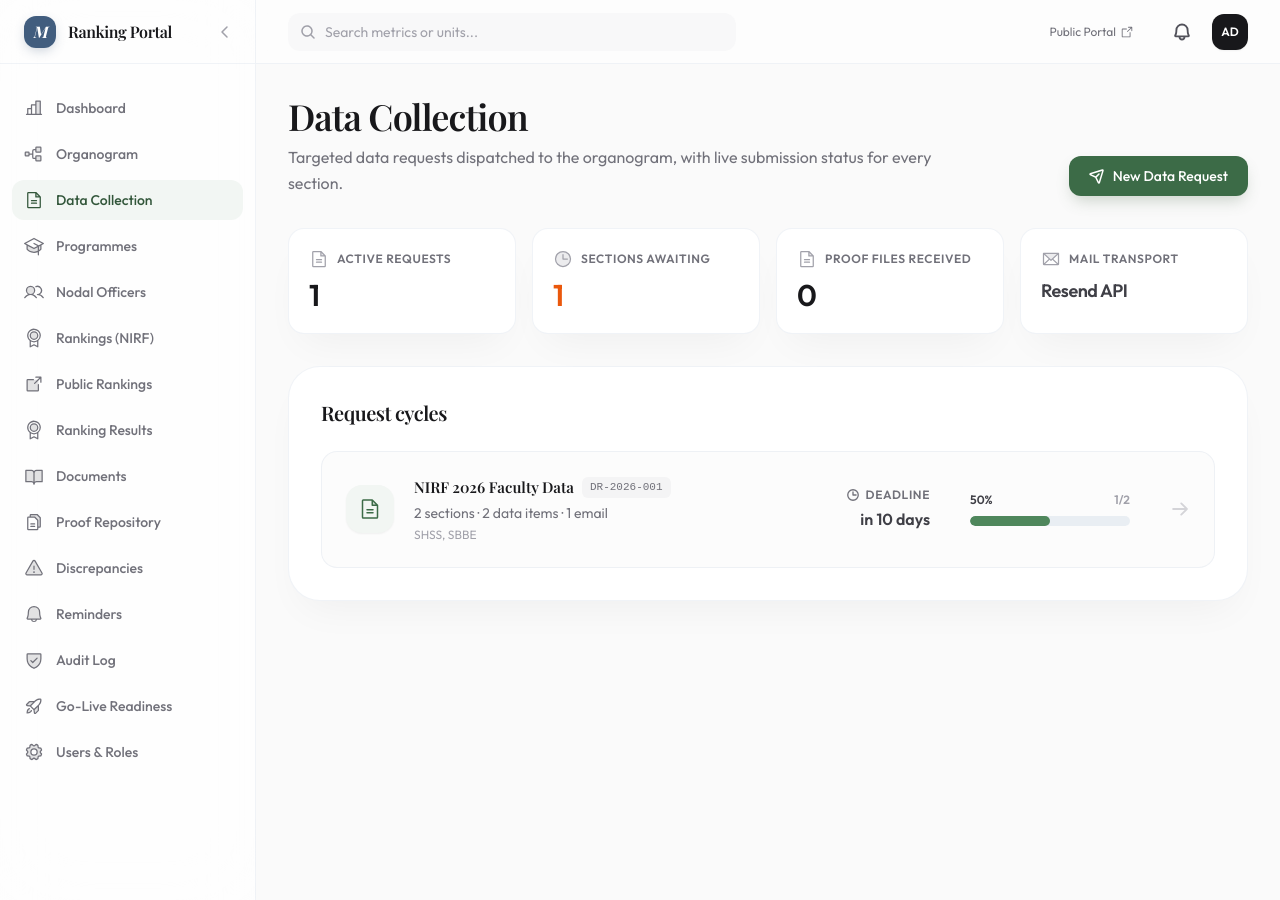
Test: admin: data collection › opens a request detail page from the list
The width and height of the screenshot is (1280, 900).
Click the heading "NIRF 2026 Faculty Data". click: (494, 487)
box: 414,476 -> 574,498
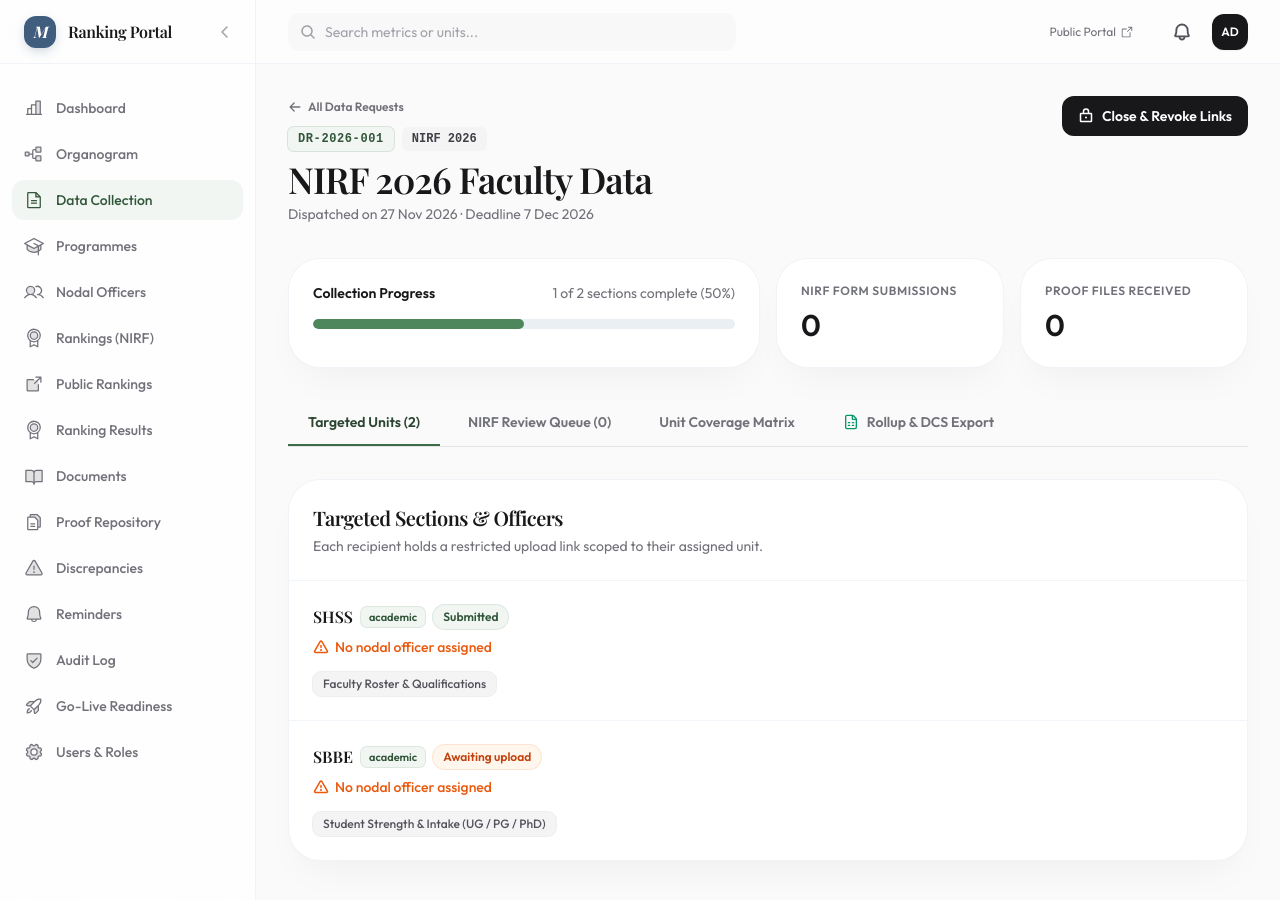
Expected: the text "DR-2026-001" is shown, 288,127 -> 394,151
Now the heading "NIRF 2026 Faculty Data" is shown, box 288,159 -> 652,199
